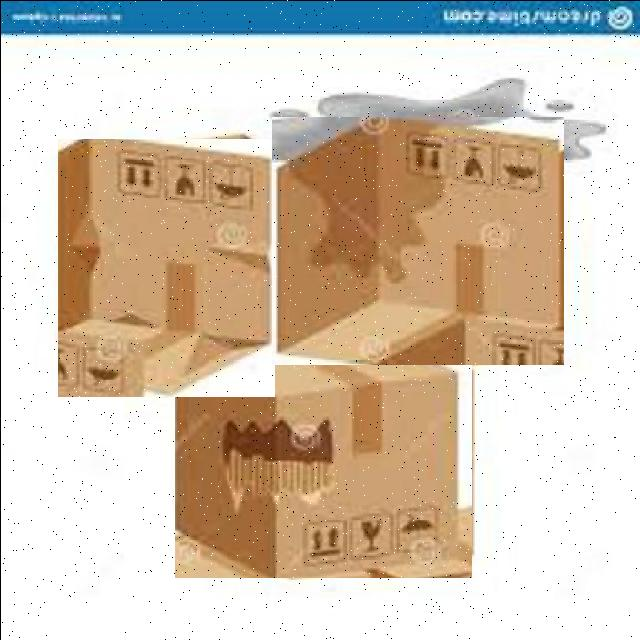defect: (174, 321, 471, 577), (271, 116, 563, 364), (57, 138, 274, 396)
